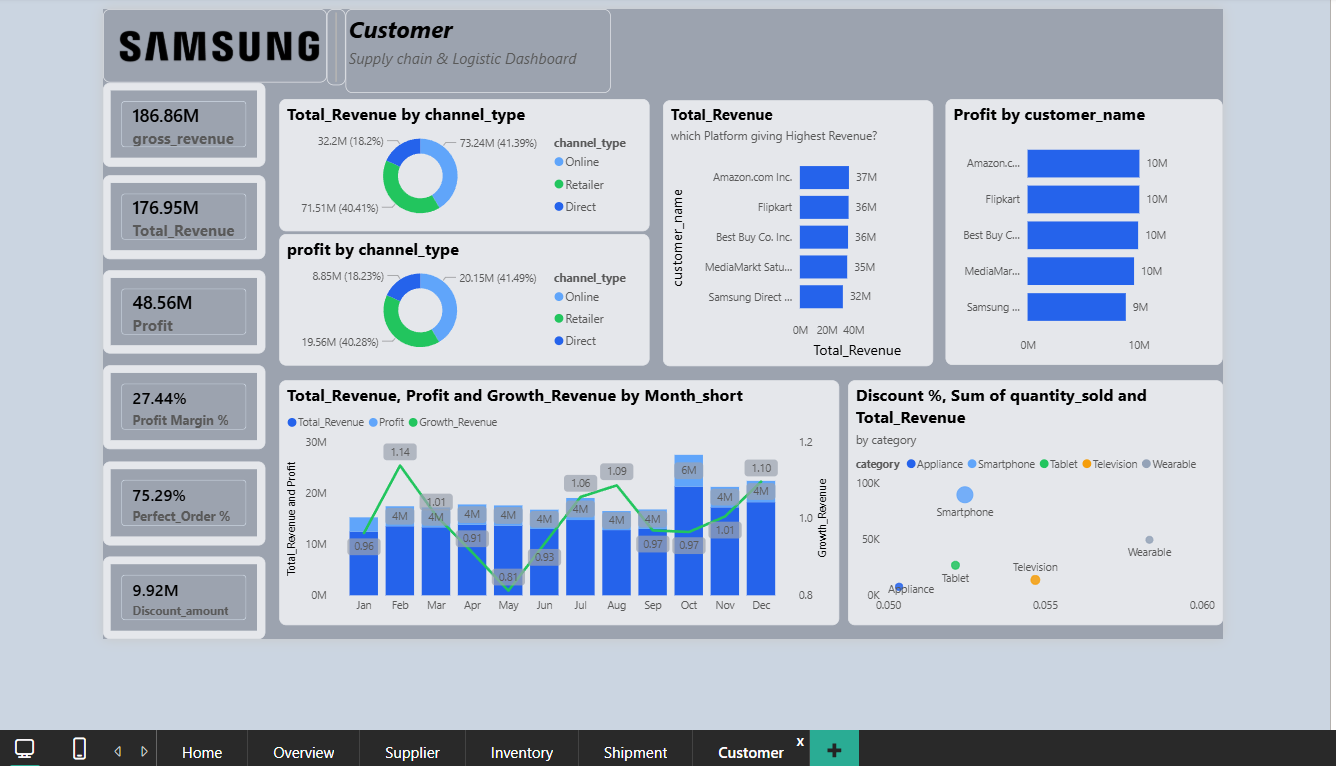

Layout of this report page (visuals, bound fields, positions):
{"tool":"powerbi","page":{"name":"Customer","canvas":[1280,720],"ordinal":5},"visuals":[{"type":"shape","title":"Customer","box":[277.1,0,302.9,95.7],"z":16000},{"type":"image","box":[0,0,255.7,84.3],"z":17000},{"type":"shape","box":[255.7,0,21.4,87.1],"z":18000},{"type":"cardVisual","fields":{"Data":["Sum(fact_sales.gross_revenue)"]},"box":[0,84.3,185.7,95.7],"z":19000},{"type":"cardVisual","fields":{"Data":["MeasureTable.Total_Revenue"]},"box":[0,190,185.7,95.7],"z":20000},{"type":"cardVisual","fields":{"Data":["MeasureTable.Profit"]},"box":[0,299.1,185.7,95],"z":21000},{"type":"cardVisual","fields":{"Data":["MeasureTable.Profit Margin %"]},"box":[0,407.5,185.7,95.7],"z":22000},{"type":"cardVisual","fields":{"Data":["MeasureTable.Perfect_Order %"]},"box":[0,516.6,185.7,95.7],"z":23000},{"type":"cardVisual","fields":{"Data":["Sum(fact_sales.discount_amount)"]},"box":[0,625.7,185.7,94.3],"z":24000},{"type":"clusteredBarChart","title":"Total_Revenue ","fields":{"Y":["MeasureTable.Total_Revenue"],"Category":["dim_customer.customer_name"]},"box":[640,104.3,308.6,304.3],"z":36000},{"type":"donutChart","fields":{"Category":["dim_customer.channel_type"],"Y":["MeasureTable.Total_Revenue"]},"box":[201.4,102.9,422.9,151.4],"z":36001},{"type":"donutChart","title":" profit by channel_type","fields":{"Category":["dim_customer.channel_type"],"Y":["Sum(fact_sales.profit)"]},"box":[201.4,257.1,422.9,150],"z":36002},{"type":"clusteredBarChart","fields":{"Y":["MeasureTable.Profit"],"Category":["dim_customer.customer_name"]},"box":[962.9,102.9,317.1,304.3],"z":36003},{"type":"lineStackedColumnComboChart","fields":{"Category":["dim_date.Month_short"],"Y":["MeasureTable.Total_Revenue","MeasureTable.Profit"],"Y2":["MeasureTable.Growth_Revenue"]},"box":[201.4,424.3,640,280],"z":36004},{"type":"scatterChart","fields":{"X":["MeasureTable.Discount %"],"Y":["Sum(fact_sales.quantity_sold)"],"Series":["dim_product.category"],"Size":["MeasureTable.Total_Revenue"]},"box":[851.4,424.3,428.6,280],"z":36005}]}

Visuals, with their boxes on the page's 1280x720 design canvas (x1, y1, x2, y2). These are canvas units, not pixel positions in the 1336x766 screenshot, which may show the page scaled, cropped or inside an application window:
"Customer" shape: (x1=277, y1=0, x2=580, y2=96)
image: (x1=0, y1=0, x2=256, y2=84)
shape: (x1=256, y1=0, x2=277, y2=87)
cardVisual - Sum(fact_sales.gross_revenue): (x1=0, y1=84, x2=186, y2=180)
cardVisual - MeasureTable.Total_Revenue: (x1=0, y1=190, x2=186, y2=286)
cardVisual - MeasureTable.Profit: (x1=0, y1=299, x2=186, y2=394)
cardVisual - MeasureTable.Profit Margin %: (x1=0, y1=408, x2=186, y2=503)
cardVisual - MeasureTable.Perfect_Order %: (x1=0, y1=517, x2=186, y2=612)
cardVisual - Sum(fact_sales.discount_amount): (x1=0, y1=626, x2=186, y2=720)
"Total_Revenue " clusteredBarChart: (x1=640, y1=104, x2=949, y2=409)
donutChart - dim_customer.channel_type x MeasureTable.Total_Revenue: (x1=201, y1=103, x2=624, y2=254)
" profit by channel_type" donutChart: (x1=201, y1=257, x2=624, y2=407)
clusteredBarChart - MeasureTable.Profit x dim_customer.customer_name: (x1=963, y1=103, x2=1280, y2=407)
lineStackedColumnComboChart - dim_date.Month_short x MeasureTable.Total_Revenue: (x1=201, y1=424, x2=841, y2=704)
scatterChart - MeasureTable.Discount % x Sum(fact_sales.quantity_sold): (x1=851, y1=424, x2=1280, y2=704)
